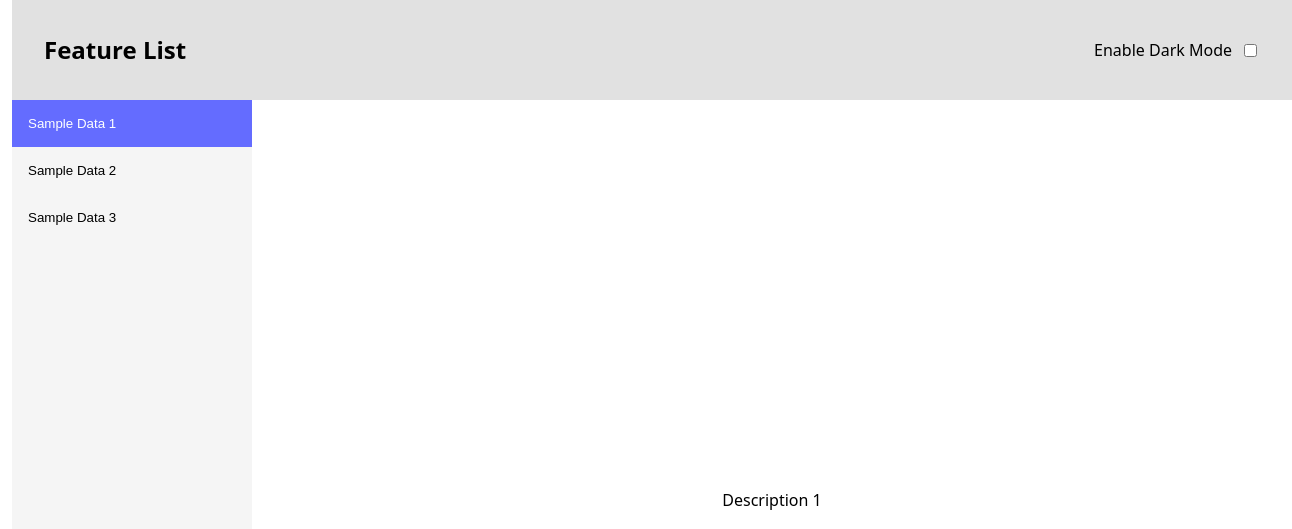
Test case: App Integration › devrait permettre de sélectionner une feature et afficher sa description
The image size is (1292, 529).
Check: the button "Sample Data 1" is shown, box [12,100,252,147]
Note: Cliquer sur Sample Data 2
Click the button "Sample Data 2" at (132, 171), box [12,147,252,194]
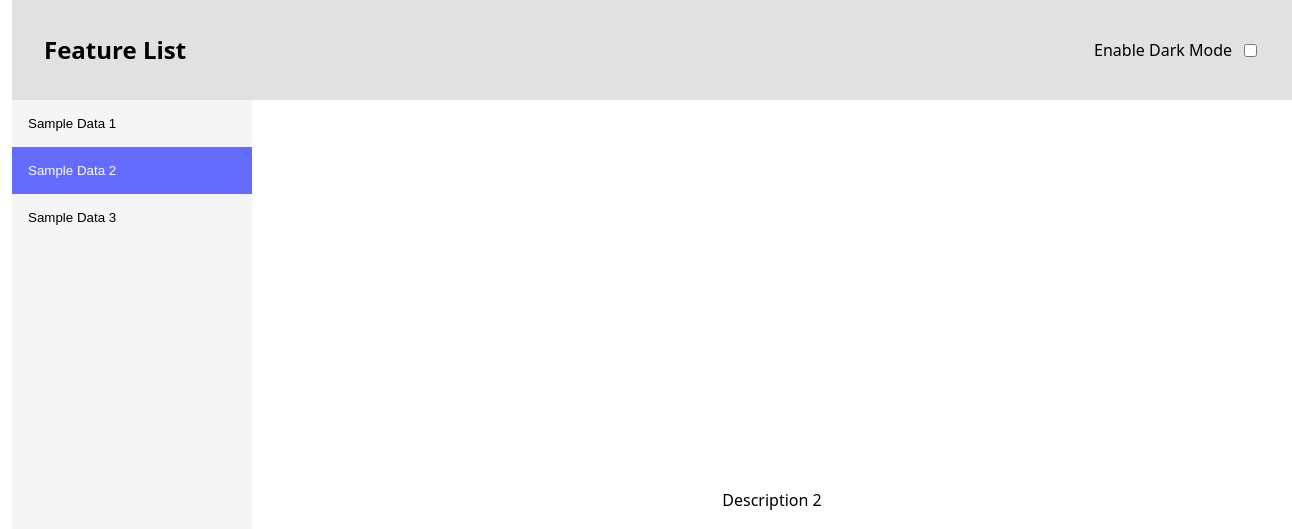
Check: the text "Description 2" is shown, box [722,488,822,512]
